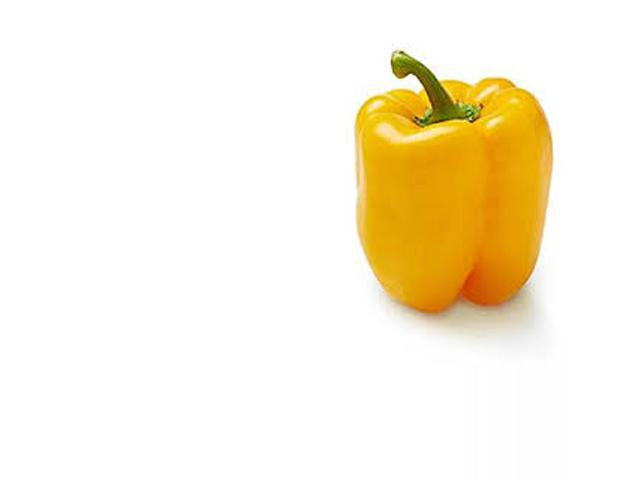bell_pepper: (328, 38, 554, 314)
